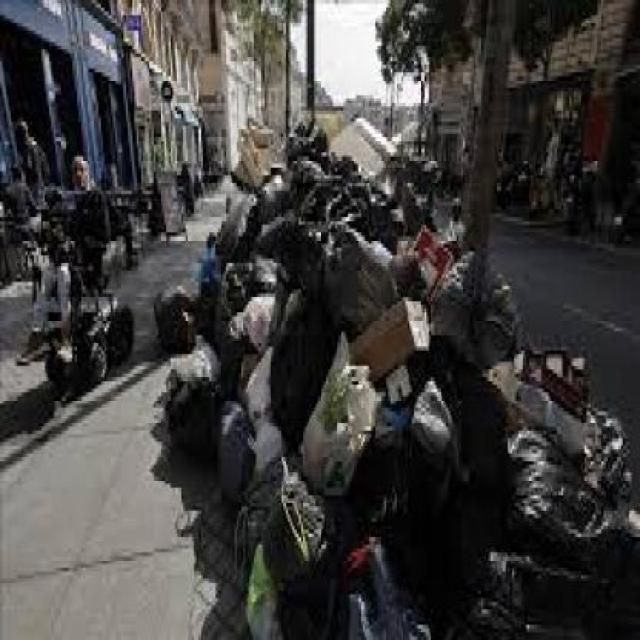garbage: (180, 168, 442, 636), (359, 232, 638, 636)
